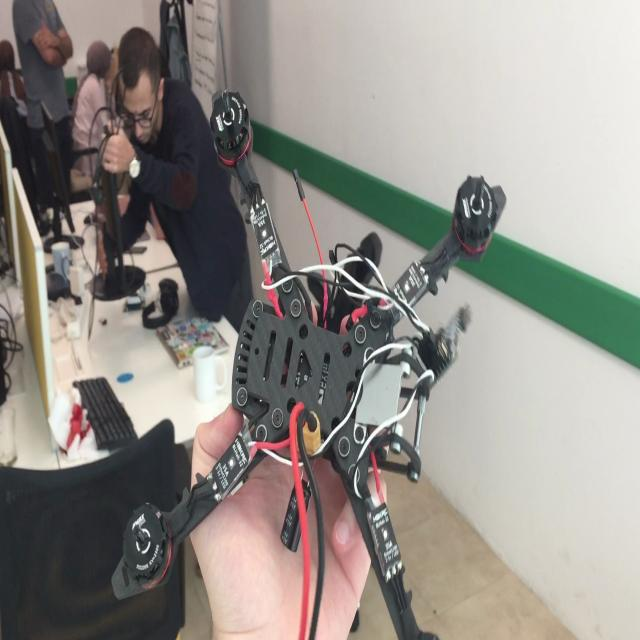drone: (85, 82, 535, 640)
